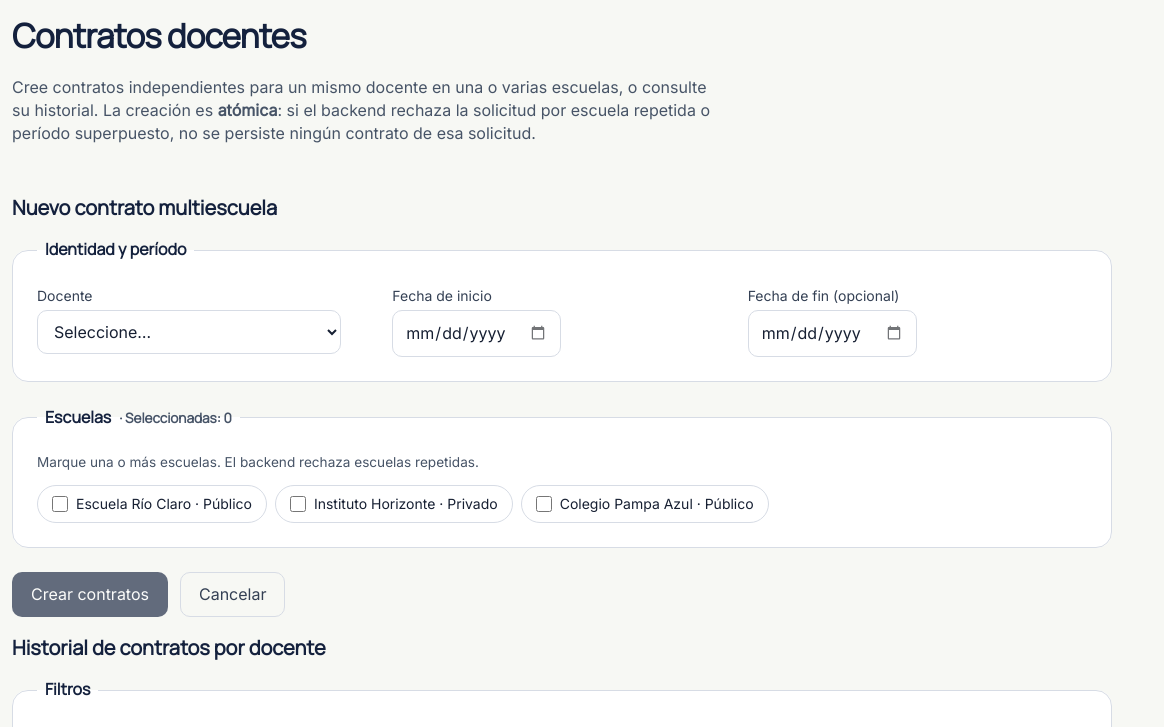
Scenario: TeacherContractsComponent (CT form/list remoto) › actualiza el contador visible al marcar y desmarcar una escuela
The width and height of the screenshot is (1164, 727).
Click the checkbox labelled "Escuela Río Claro · Público": {"x": 60, "y": 504} 52,496 -> 68,512
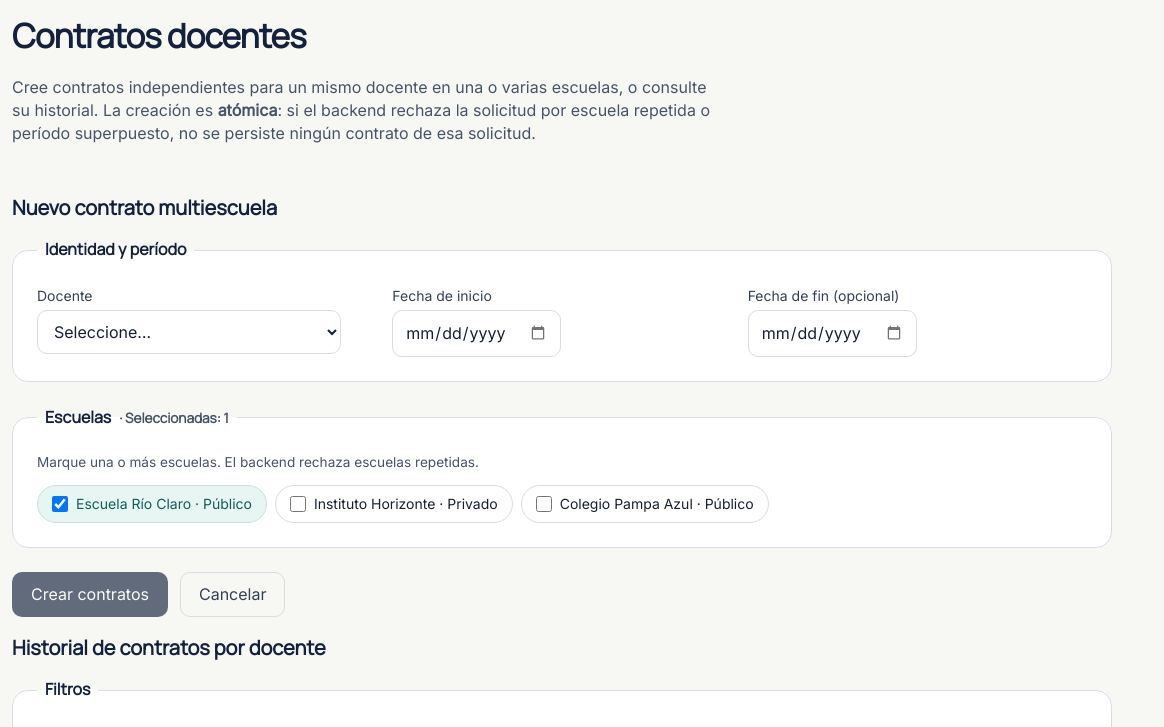
Now the text "· Seleccionadas: 1" is shown, box 119,409 -> 229,429
Click the button "Cancelar": {"x": 233, "y": 595} 180,572 -> 286,618
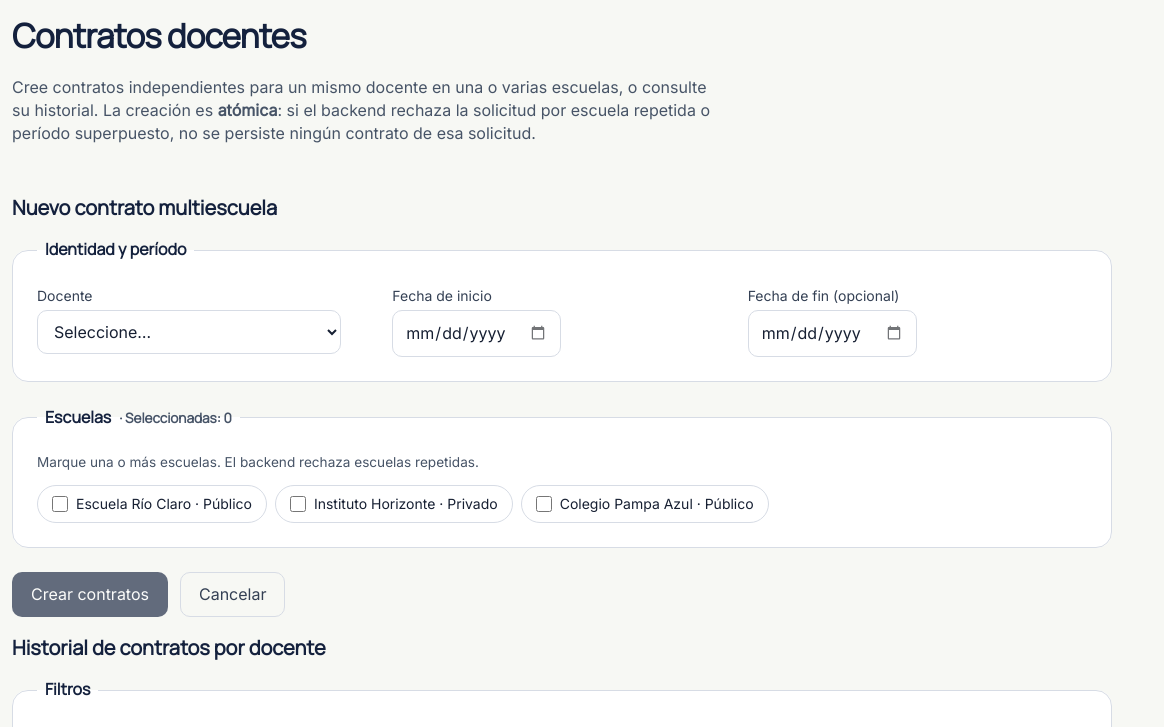
Now the text "· Seleccionadas: 0" is shown, box 119,409 -> 232,429
